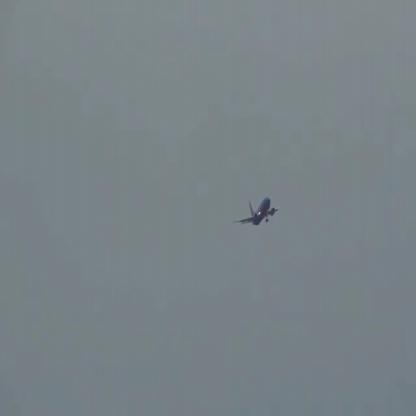CIV_Plane: (233, 196, 279, 226)
